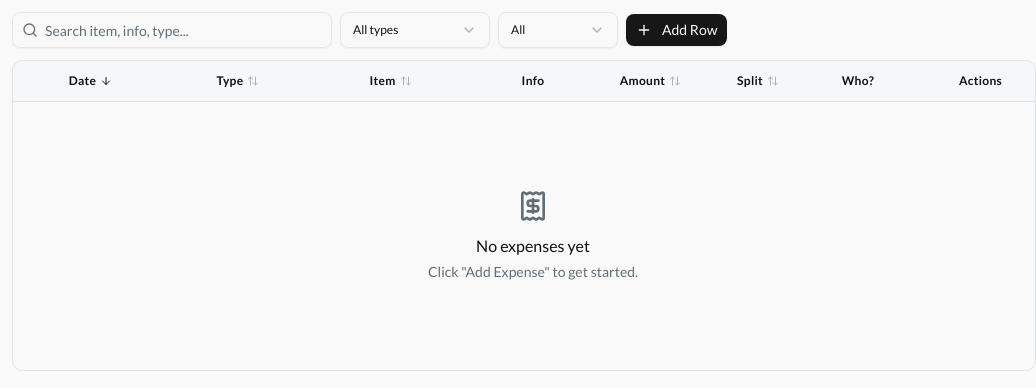
Test: category choice Enter updates a new draft without prematurely saving the old category
Click the button "Add Row" at (677, 30), box [626,14,727,46]
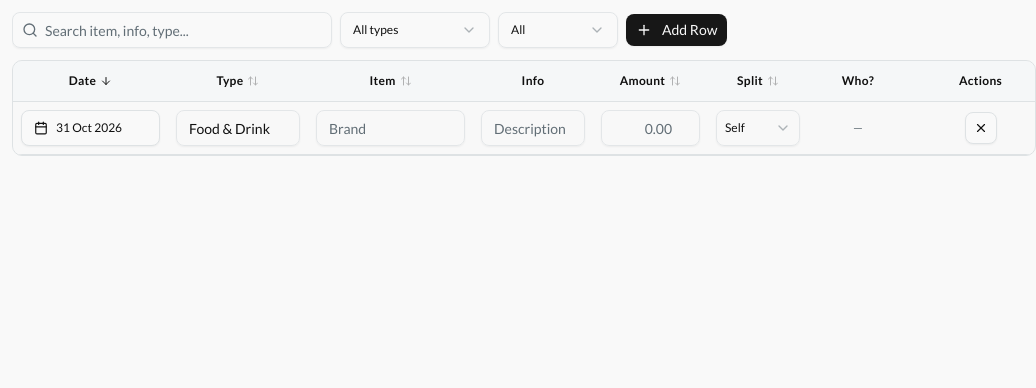
Type "Category generated draft" into the field with placeholder "Brand" at (390, 128), box [316,110,465,146]
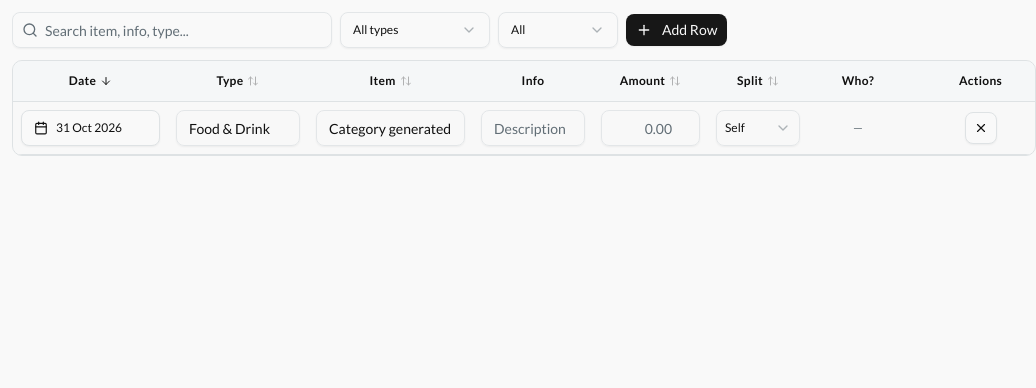
Type "11" into the number field at (650, 128), box [601,110,700,146]
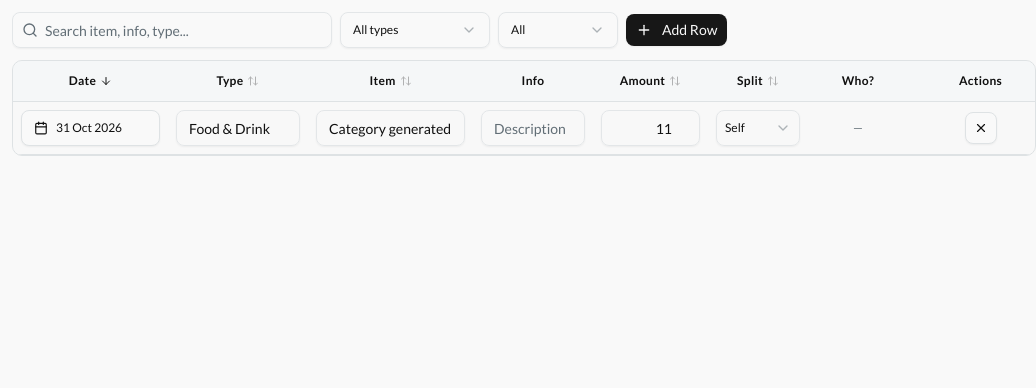
Replace the text in the field with placeholder "Category" with "shop" at (238, 128), box [176,110,300,146]
Then press Enter
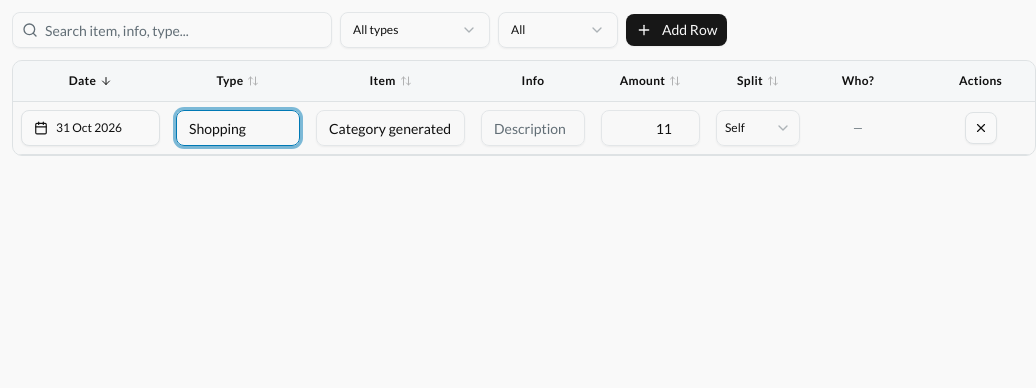
Now the number field is enabled, box [601,110,700,146]
Now the field with placeholder "Category" holds "Shopping", box [176,110,300,146]
